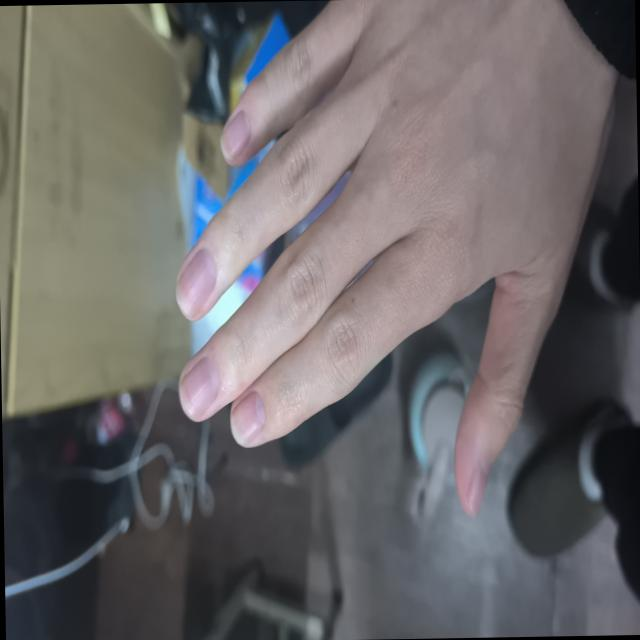Nail: (175, 249, 217, 317), (179, 357, 218, 420), (230, 391, 265, 446), (221, 110, 251, 162), (467, 463, 488, 517)
